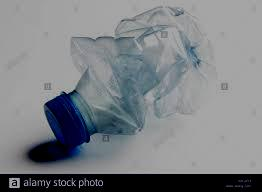Plastic: (35, 4, 227, 159)
